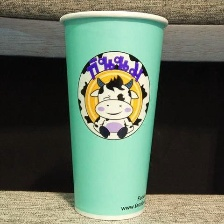paper_cup: (54, 6, 172, 223)
